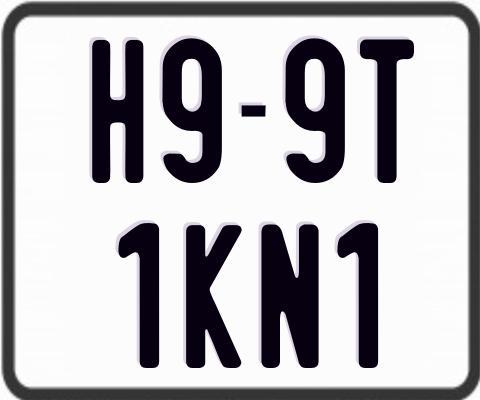1: (117, 221, 162, 366), (337, 221, 378, 370)
9: (284, 37, 349, 187), (162, 35, 227, 182)
H: (92, 37, 147, 182)
K: (184, 222, 242, 371)
N: (260, 223, 319, 373)
T: (360, 39, 414, 185)
